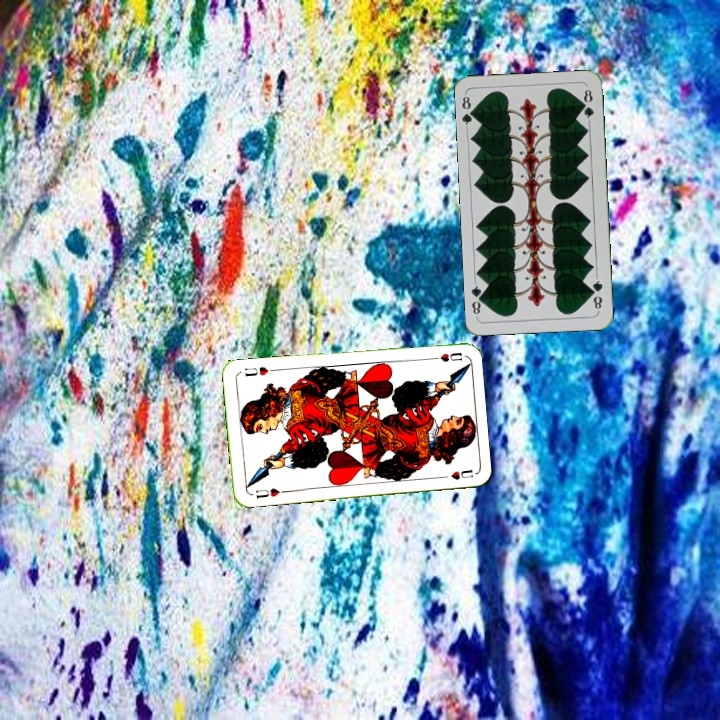G8: (458, 91, 478, 131), (588, 273, 605, 314)
HU: (425, 348, 465, 365), (252, 484, 288, 501)
